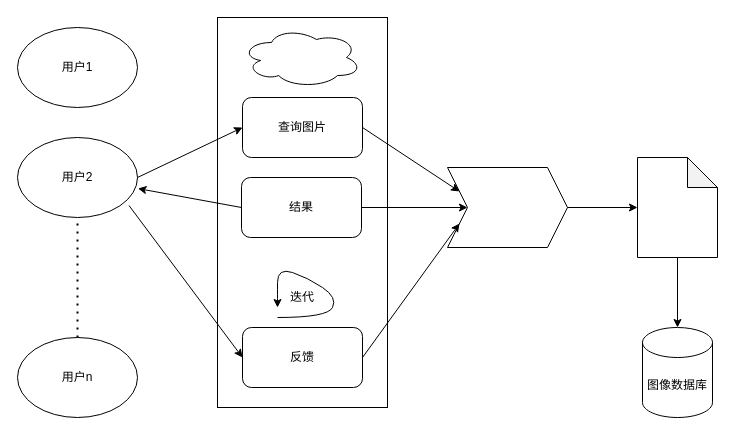
Image size: 735x435. Some labels were removed from this diagram. The shapes that lost their labels are listed below. From the top down, each one's centre as x and y in pixels, then its label:
At point 301,57: "用户接口".
At point 507,207: "处理单元".
At point 677,207: "索引".
